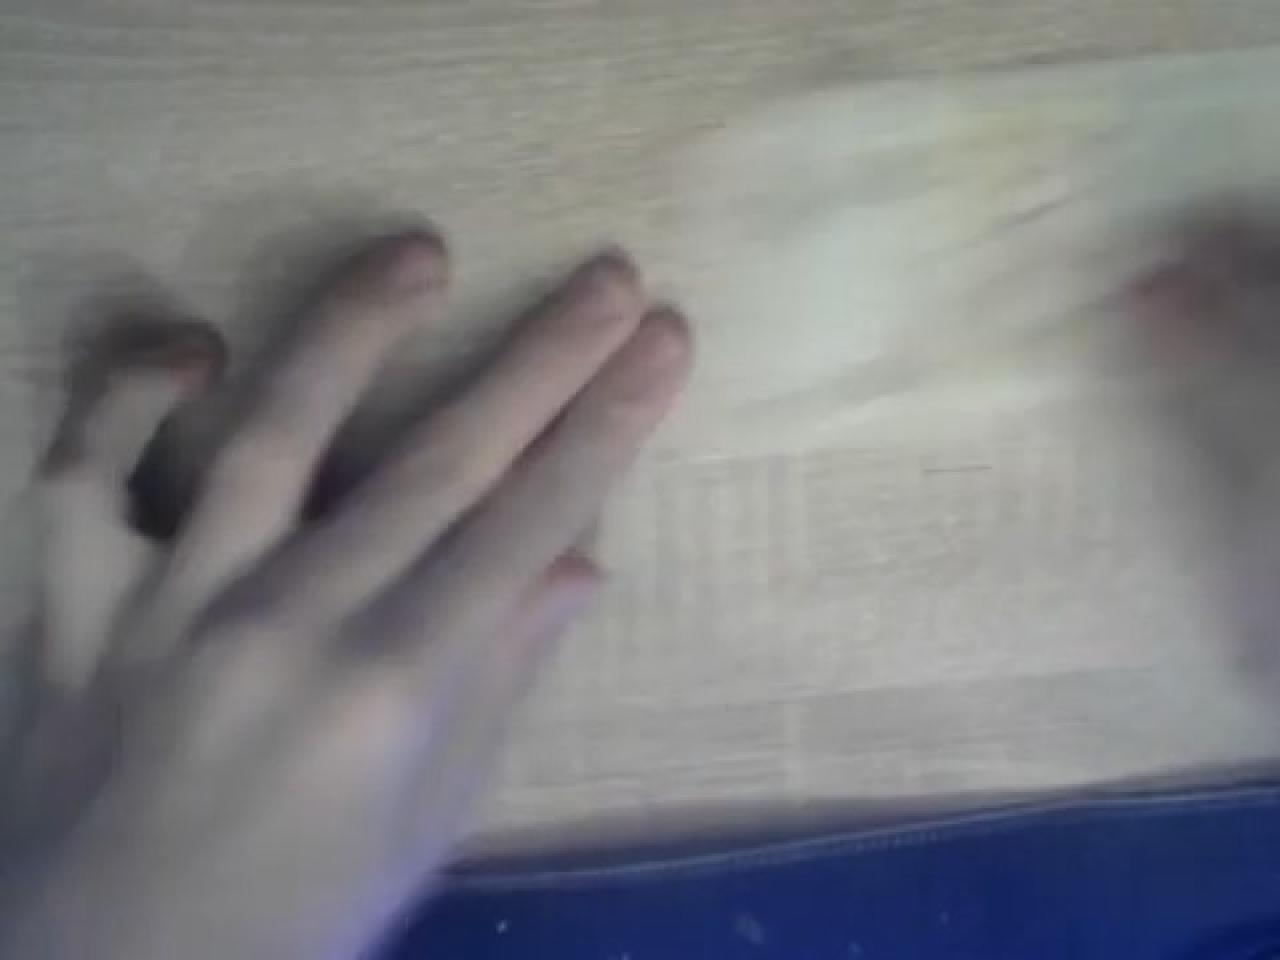10leva: (0, 227, 701, 960)
